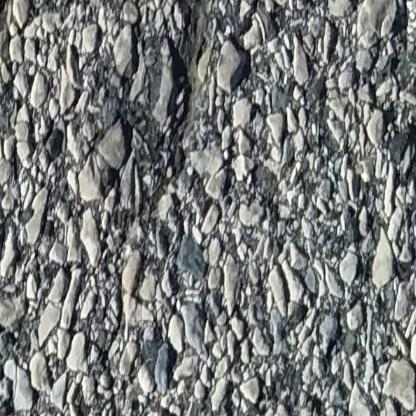Cracks: (150, 0, 208, 173), (0, 0, 24, 47)
